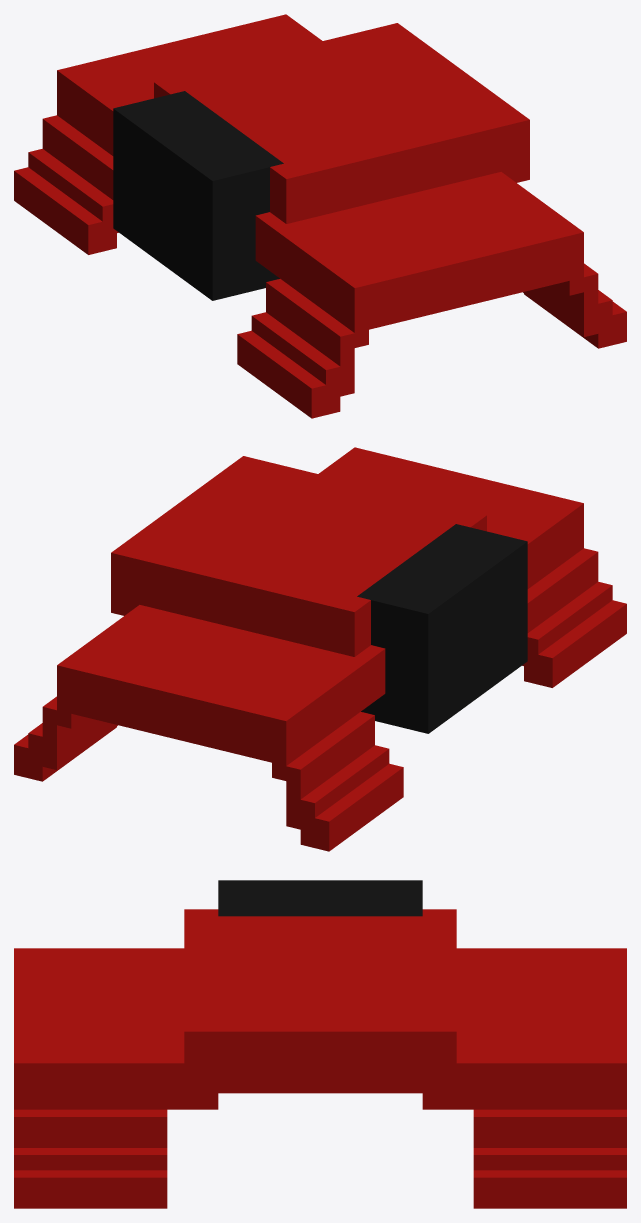
The model's file is quad_bike_rear_fenders.glb.
The picture shows the model from 3 angles, top to bottom: view 1: azimuth 30°, elevation 25°; view 2: azimuth 150°, elevation 25°; view 3: azimuth 270°, elevation 25°; orthographic projection. The views are drawn at different scales.
Visible parts, largest first — view 1: body:compound; view 2: body:compound; view 3: body:compound.
Boxes of the visible parts, x1,y1,x2,y2 form: body:compound: (14, 14, 626, 418); body:compound: (14, 447, 626, 851); body:compound: (14, 880, 626, 1208).
Bounding box in the file's own units: 0.6875 × 0.3438 × 1.12.
